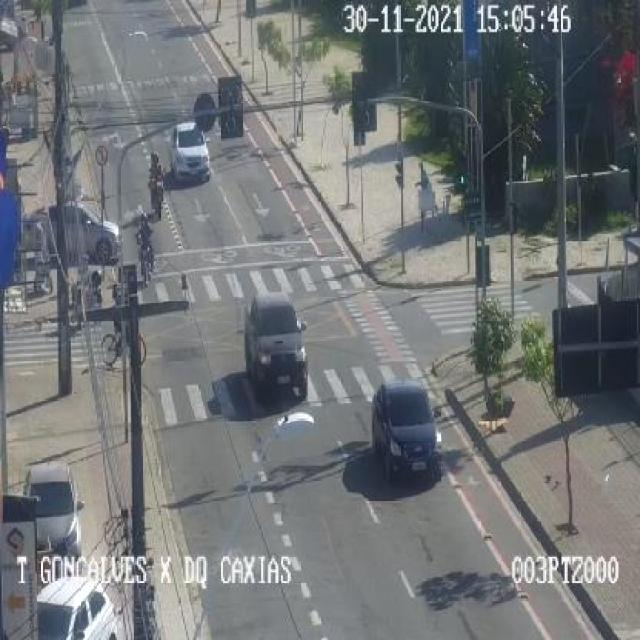Car: (240, 291, 312, 407), (15, 461, 86, 578), (373, 379, 447, 486), (21, 201, 123, 266), (28, 574, 123, 640), (170, 118, 212, 185)
Cycle: (98, 329, 149, 370), (148, 170, 166, 223), (137, 237, 156, 286)
